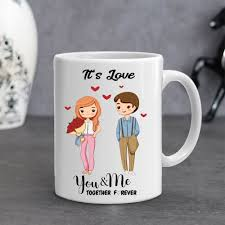mug: (42, 39, 203, 208)
